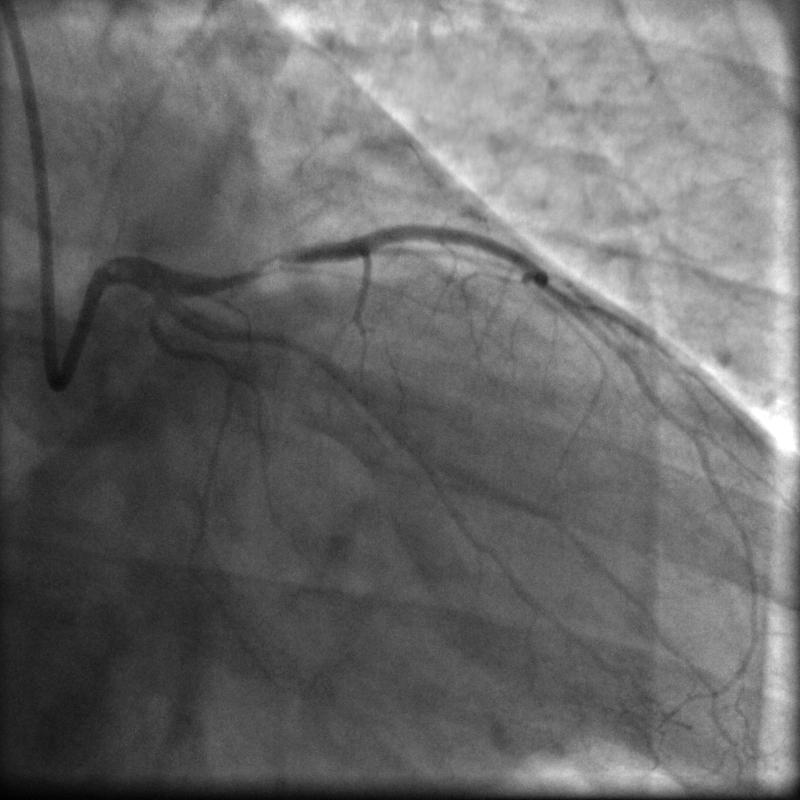Stenosis: (235, 244, 312, 278)
